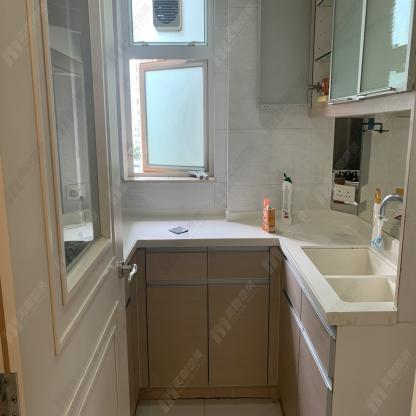Cupboard: (138, 245, 338, 416), (307, 0, 416, 120), (329, 2, 414, 104)
Exhaust Fan: (147, 0, 189, 35)
Faucet: (377, 192, 404, 223)
Sink: (289, 240, 397, 310), (302, 245, 396, 309)
